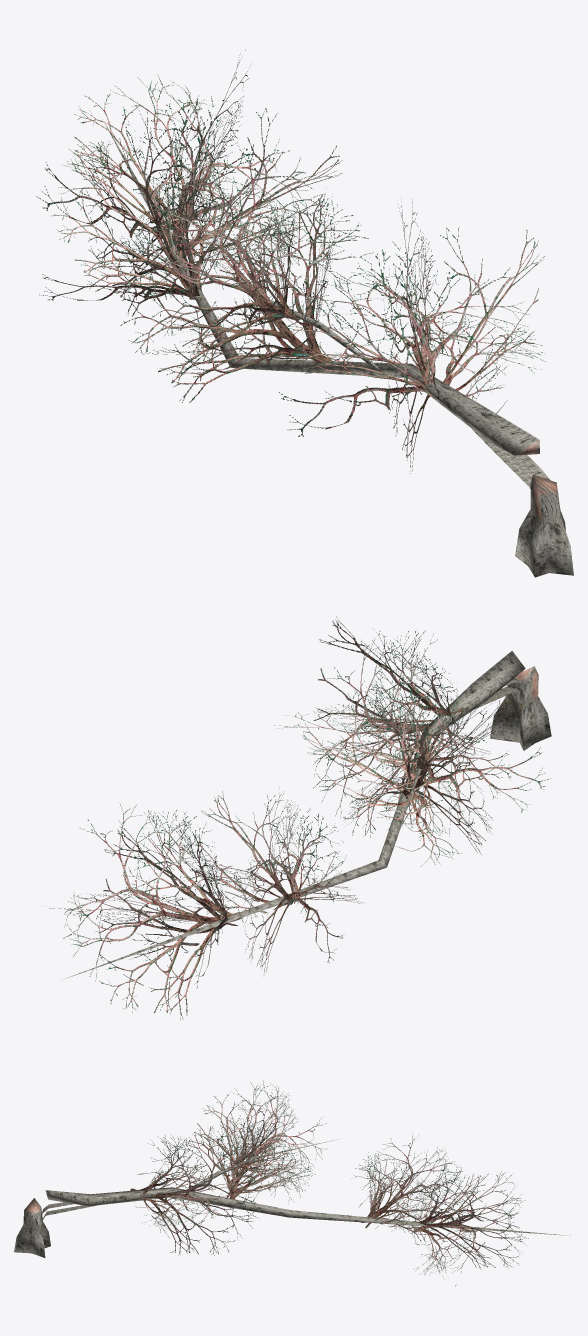
Rendered from decd_whitebirchfallen_l1.fbx.
The picture shows the model from 3 angles, top to bottom: view 1: azimuth 30°, elevation 25°; view 2: azimuth 150°, elevation 25°; view 3: azimuth 270°, elevation 25°; orthographic projection. The views are drawn at different scales.
Visible parts, largest first — view 1: mesh_node; view 2: mesh_node; view 3: mesh_node.
Boxes of the visible parts, x1=… form: mesh_node: x1=36, y1=49, x2=573, y2=577; mesh_node: x1=44, y1=616, x2=551, y2=1019; mesh_node: x1=14, y1=1080, x2=570, y2=1286.
Bounding box in the file's own units: 4.71 × 3.97 × 10.01.
